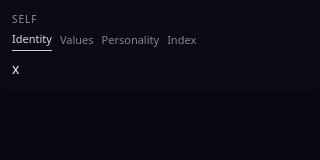
Scenario: SelfState › switches to values tab
This screenshot has width=320, height=160.
Click the button "Values".
click(77, 41)  # box left=60, top=31, right=94, bottom=50
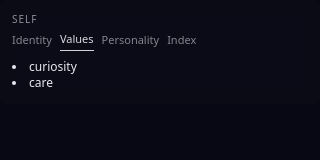
Expected: the list item "curiosity" is shown, left=29, top=58, right=77, bottom=74
Expected: the list item "care" is shown, left=29, top=74, right=53, bottom=91
